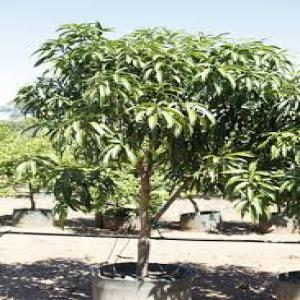Tree: (15, 19, 298, 290)
